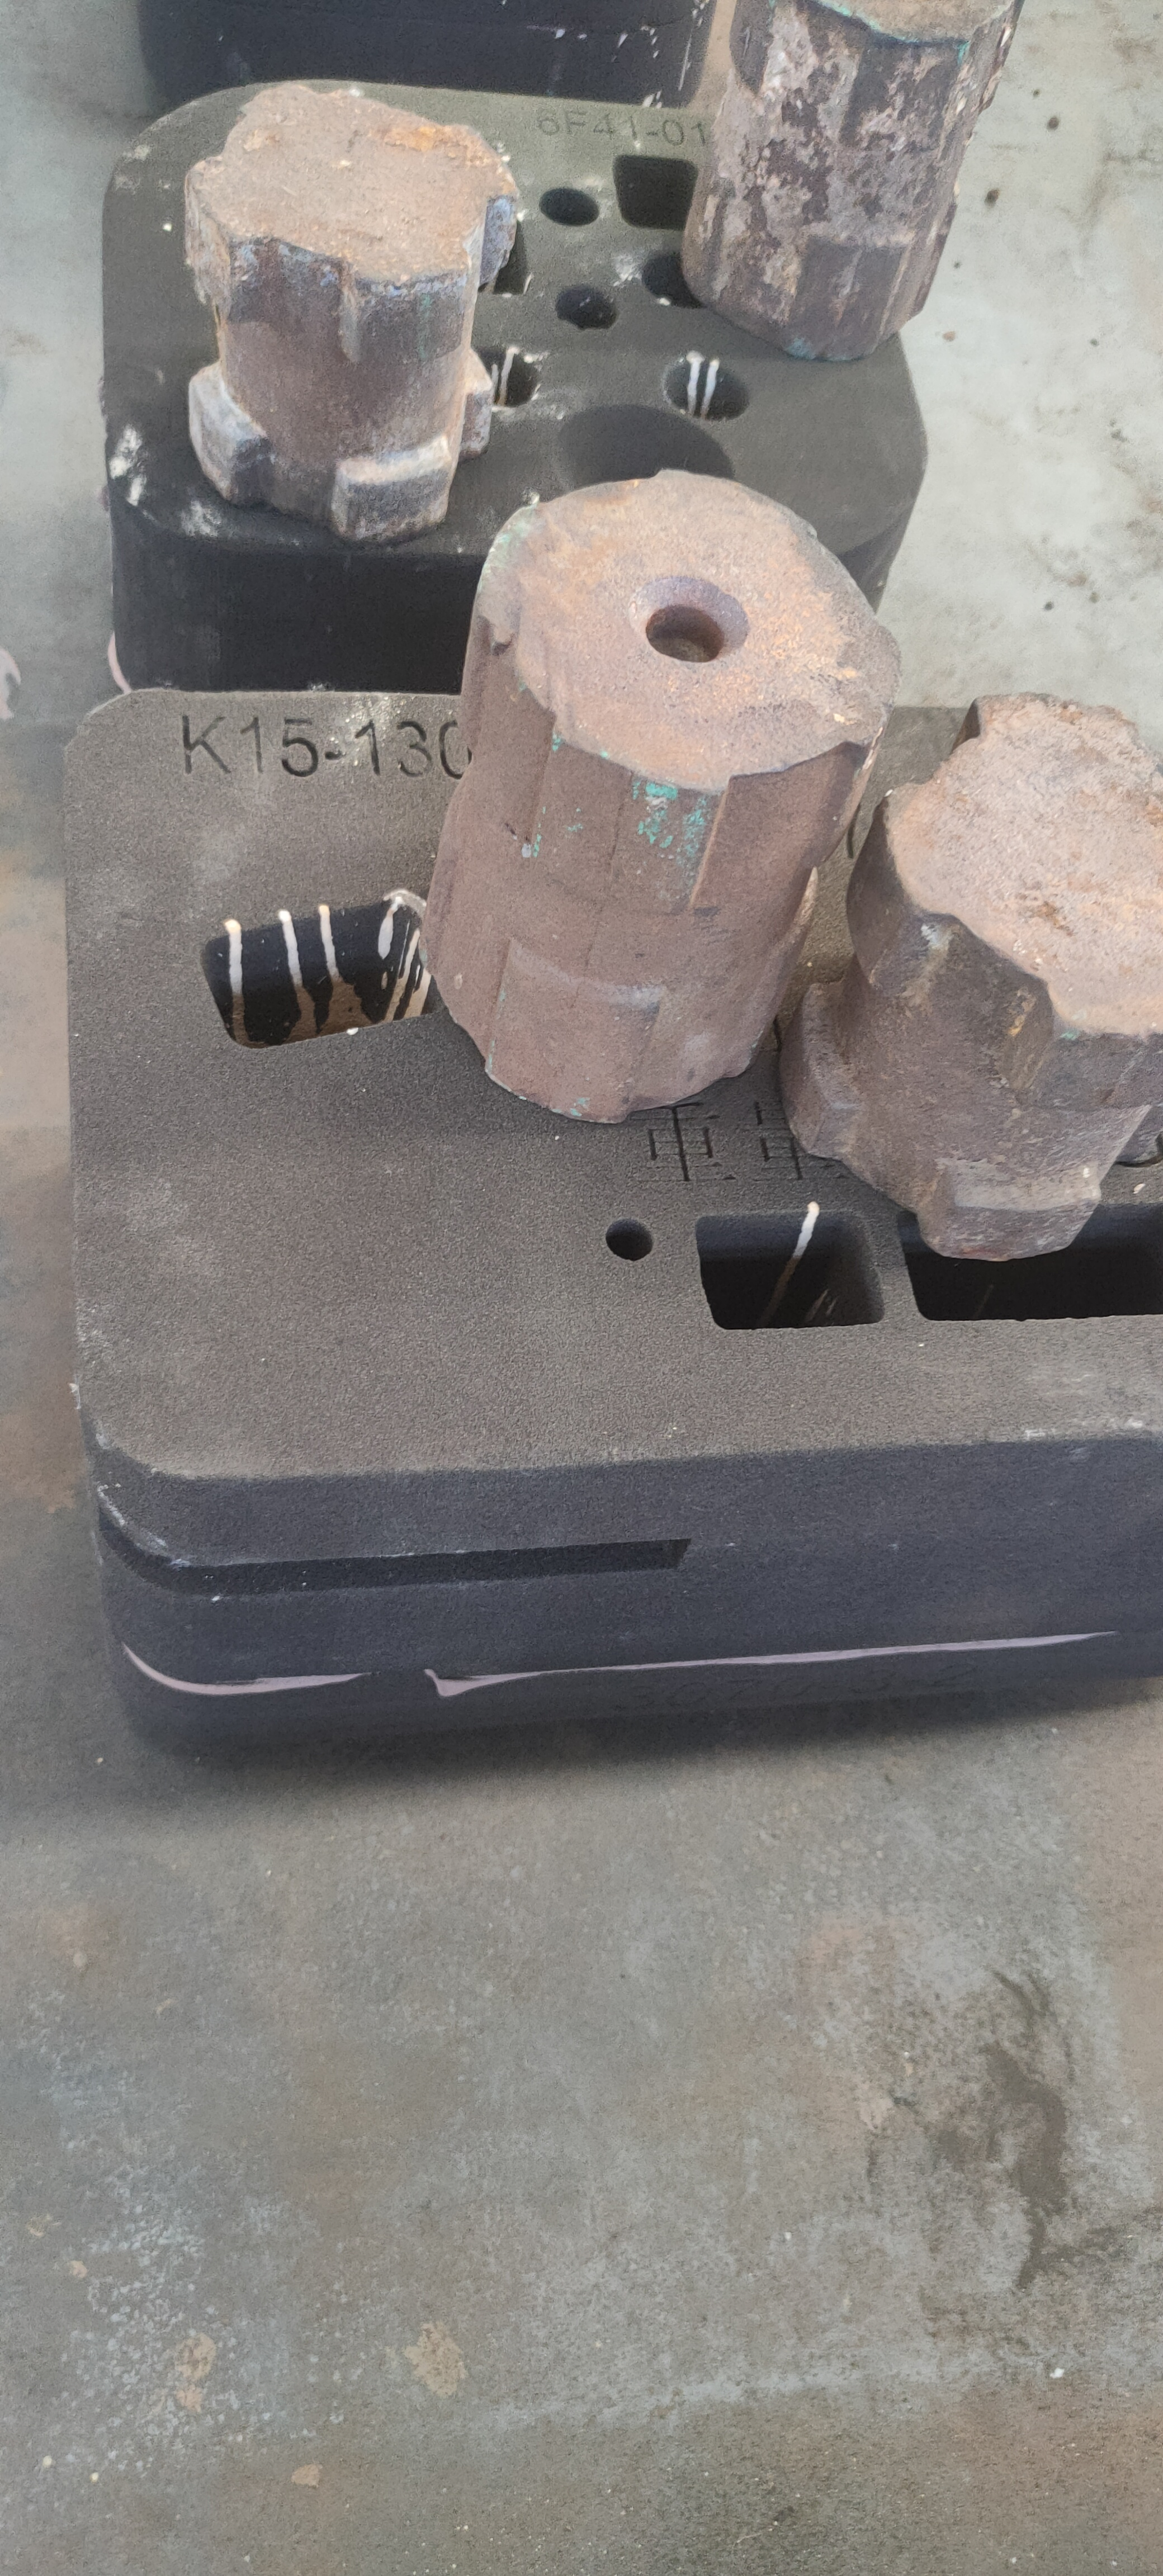pouring hole: (547, 399, 739, 531)
